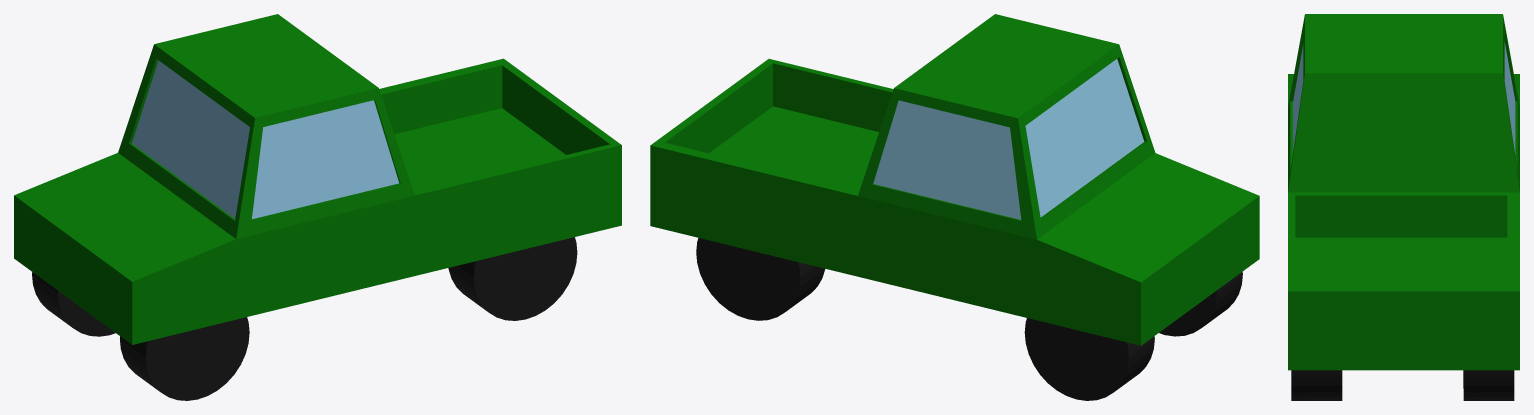
File: truck_t1.gltf
The picture shows the model from 3 angles, left to right: view 1: azimuth 30°, elevation 25°; view 2: azimuth 150°, elevation 25°; view 3: azimuth 270°, elevation 25°; orthographic projection. The views are drawn at different scales.
Visible parts, largest first — view 1: truck; view 2: truck; view 3: truck.
Boxes of the visible parts, <box> form: truck: <box>14,14,621,400</box>; truck: <box>650,14,1259,400</box>; truck: <box>1288,14,1519,400</box>.
Size of the model in its own units: 9.42 by 4.79 by 3.94.
